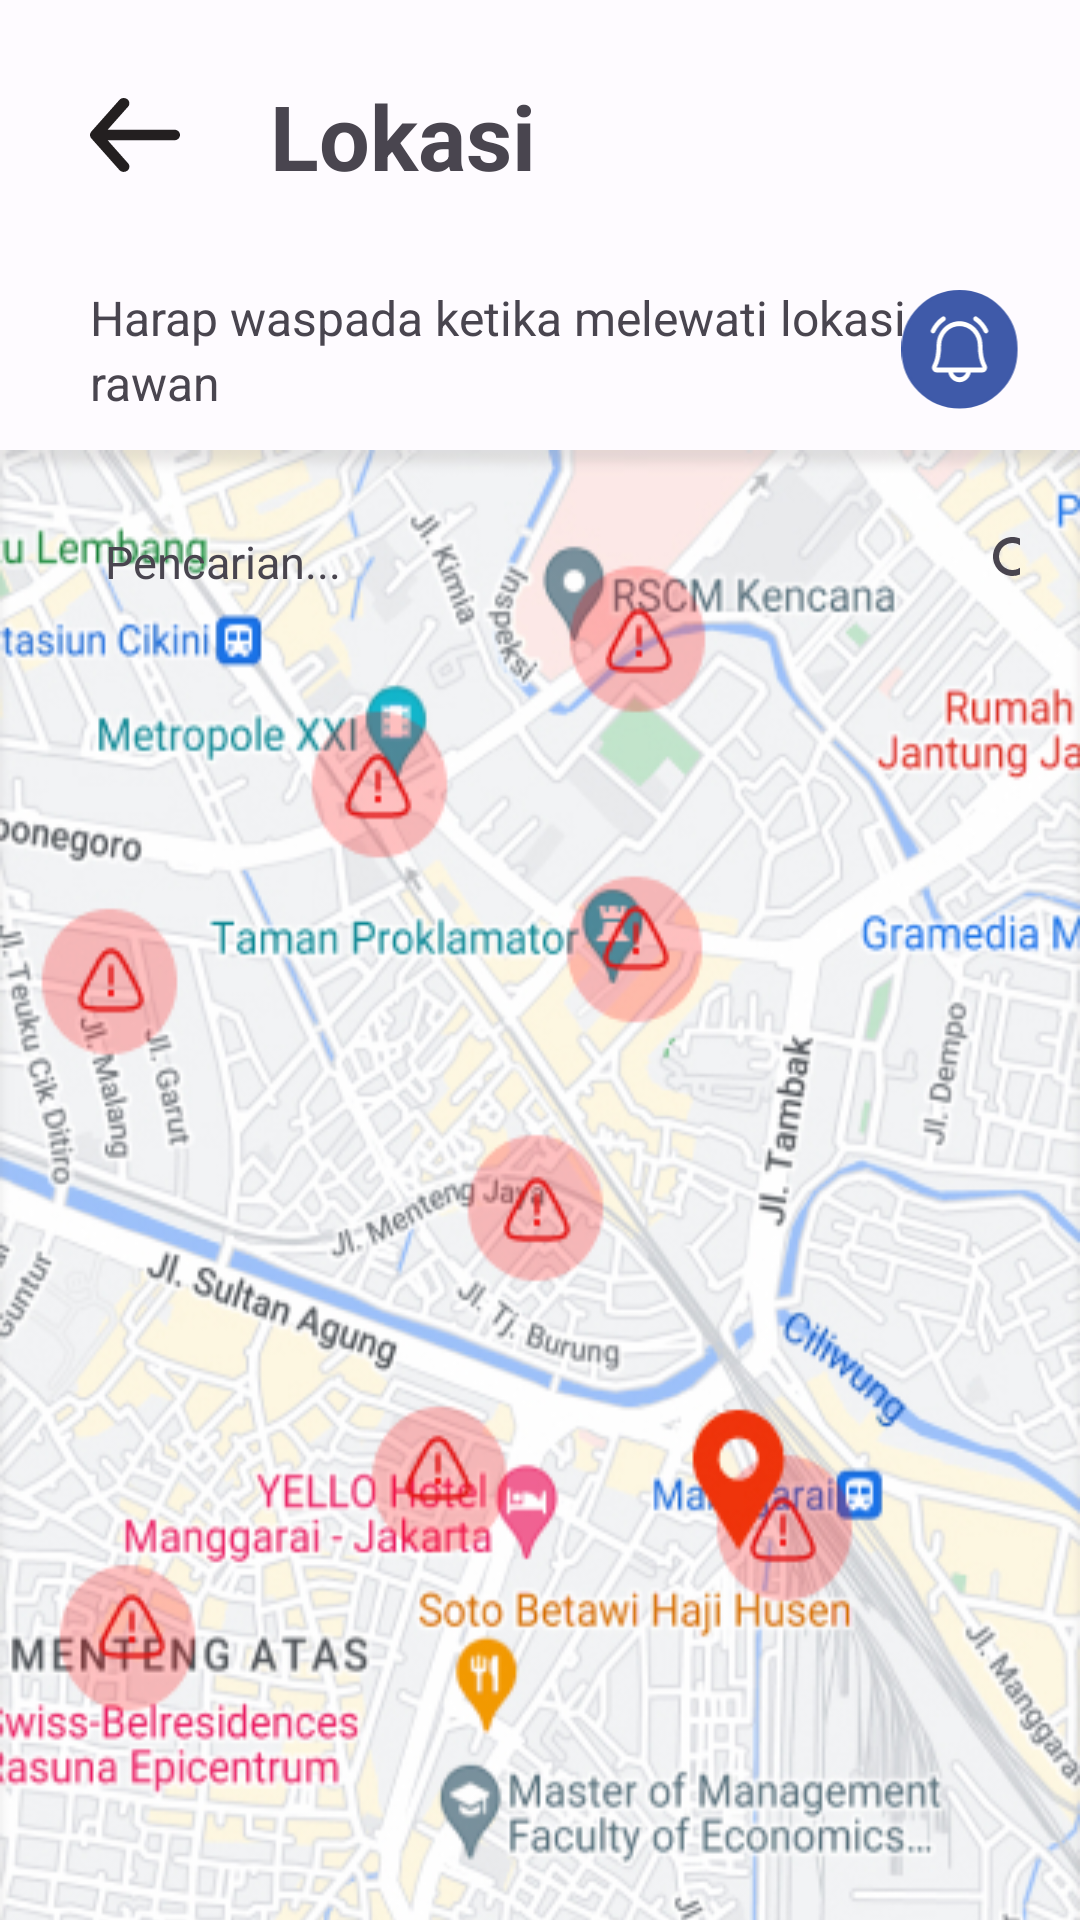

Where icons sit on this 1080x1920 app screen, as (x1, y1, x2, y2):
back: (90, 98, 180, 172)
notif: (900, 290, 1018, 409)
